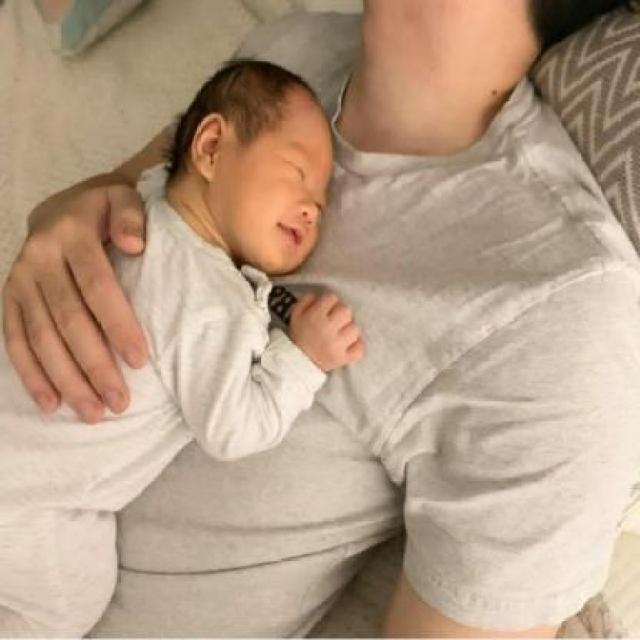baby: (11, 55, 362, 632)
